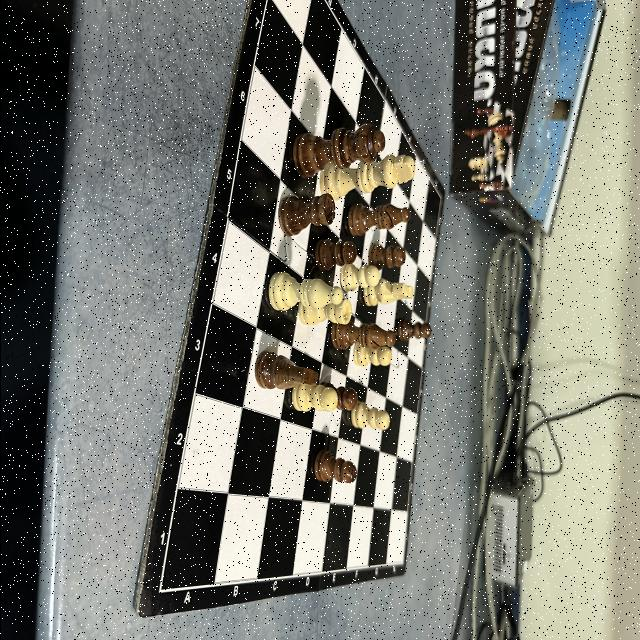Black-Bishop: (346, 202, 411, 238), (329, 322, 395, 352)
Black-Knight: (254, 350, 318, 390)
Black-Pawn: (313, 238, 357, 272), (313, 451, 357, 483), (367, 243, 405, 270), (396, 317, 431, 343), (336, 386, 357, 412)
Black-Queen: (291, 122, 385, 180)
Black-Rook: (278, 193, 335, 237)
White-Bishop: (267, 272, 342, 312)
White-King: (320, 153, 415, 201)
White-Knight: (362, 279, 412, 307)
White-Pawn: (291, 383, 337, 412), (340, 263, 379, 293), (350, 403, 390, 431), (352, 346, 391, 368)
White-Rook: (298, 299, 352, 327)
